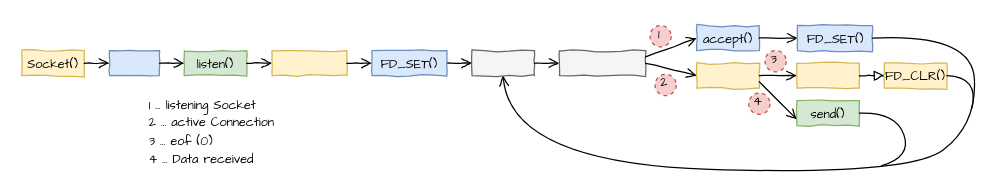
Image size: 998x193. Some labels were removed from this diagram. Each missing label, with the box of its shape:
bind(): (108, 49, 159, 76)
close(): (796, 62, 859, 88)
FD_ISSET(): (558, 49, 646, 76)
FD_ZERO(): (271, 49, 347, 76)
recv(): (696, 62, 759, 88)
select(): (471, 49, 534, 76)
